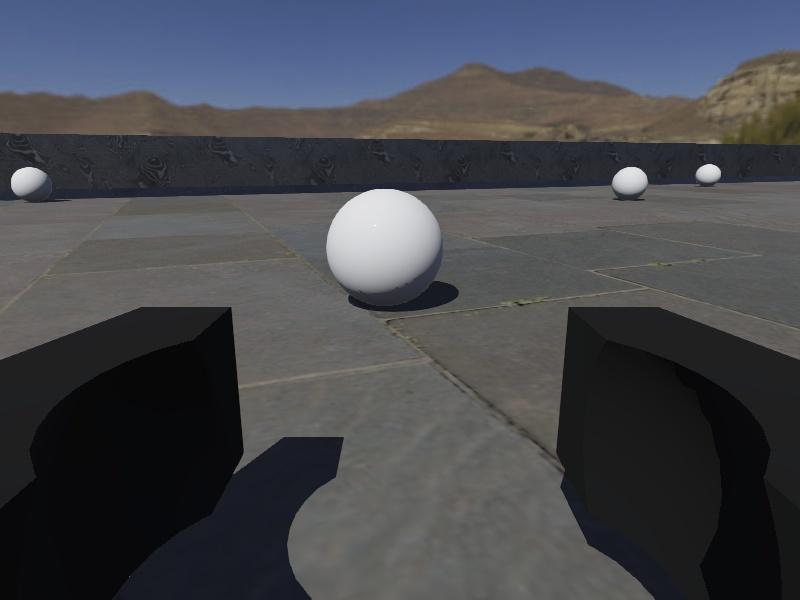white ball: (325, 186, 445, 311), (10, 165, 54, 205), (610, 164, 650, 202), (694, 162, 723, 187)
